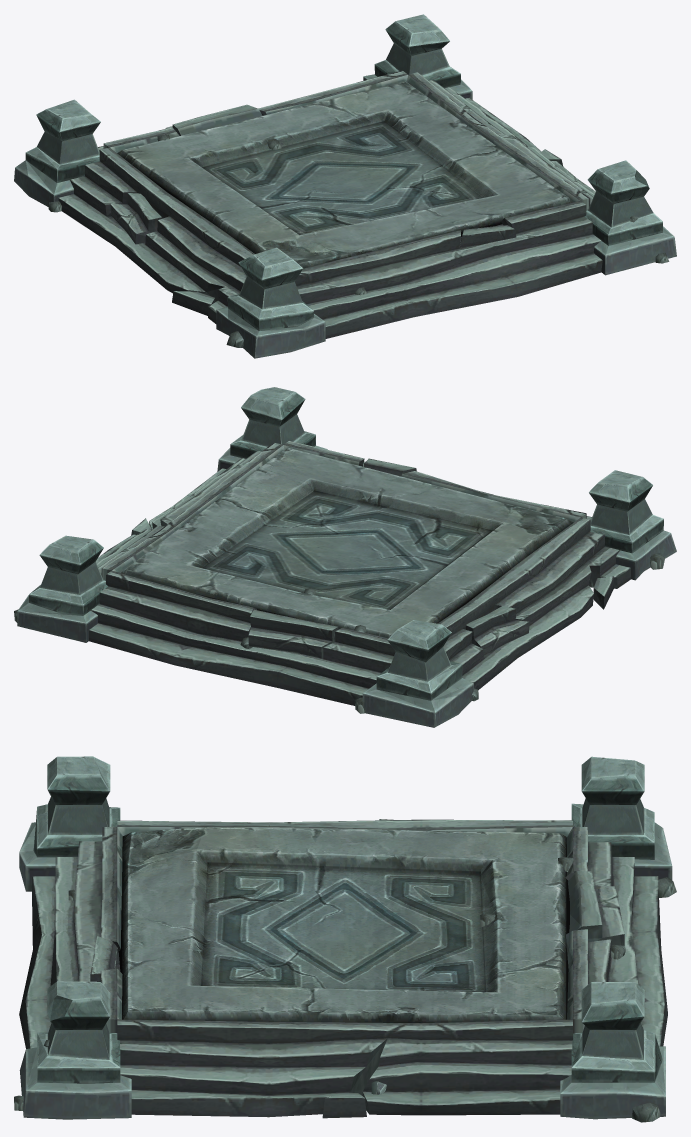
Rendered from crypt_floor_dais_01.fbx.
The picture shows the model from 3 angles, top to bottom: view 1: azimuth 30°, elevation 25°; view 2: azimuth 150°, elevation 25°; view 3: azimuth 270°, elevation 25°; orthographic projection. The views are drawn at different scales.
Visible parts, largest first — view 1: crypt_floor_dais_01-0; view 2: crypt_floor_dais_01-0; view 3: crypt_floor_dais_01-0.
Part boxes in pixels (x1,y1,x2,y2): crypt_floor_dais_01-0: [14, 14, 676, 358]; crypt_floor_dais_01-0: [14, 387, 676, 727]; crypt_floor_dais_01-0: [14, 756, 676, 1122].
Size of the model in its own units: 11.94 by 2.1 by 11.9.
